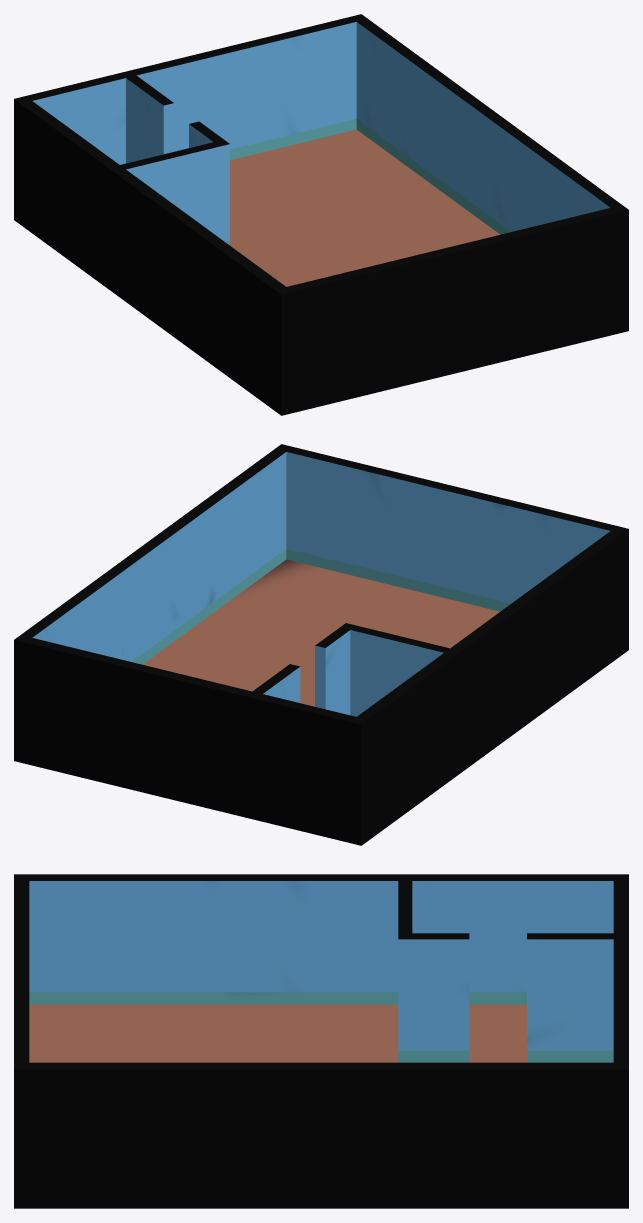
The model's file is menu.fbx.
The picture shows the model from 3 angles, top to bottom: view 1: azimuth 30°, elevation 25°; view 2: azimuth 150°, elevation 25°; view 3: azimuth 270°, elevation 25°; orthographic projection. The views are drawn at different scales.
Visible parts, largest first — view 1: Cube; view 2: Cube; view 3: Cube.
Part boxes in pixels (bbox=[...]): Cube: bbox=[14, 14, 628, 415]; Cube: bbox=[14, 444, 628, 845]; Cube: bbox=[14, 874, 628, 1208].
Bounding box in the file's own units: 600 × 200 × 800.
1 material, 1 textured.
